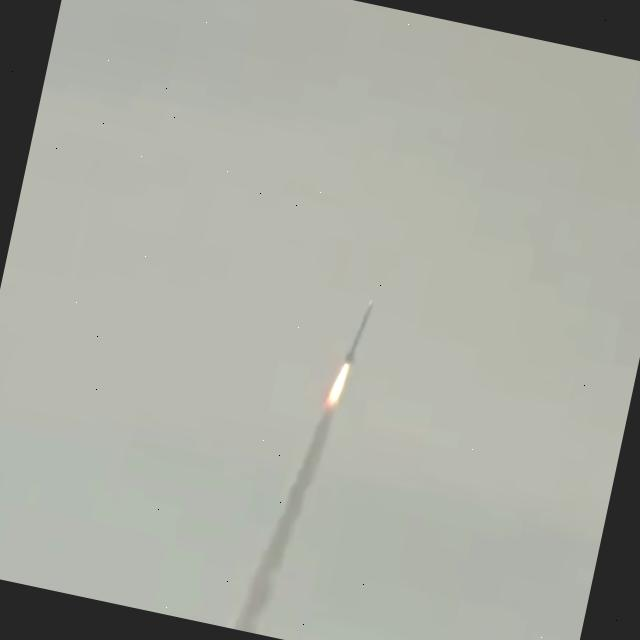smoke_trail_with_rocket: (230, 304, 373, 634)
